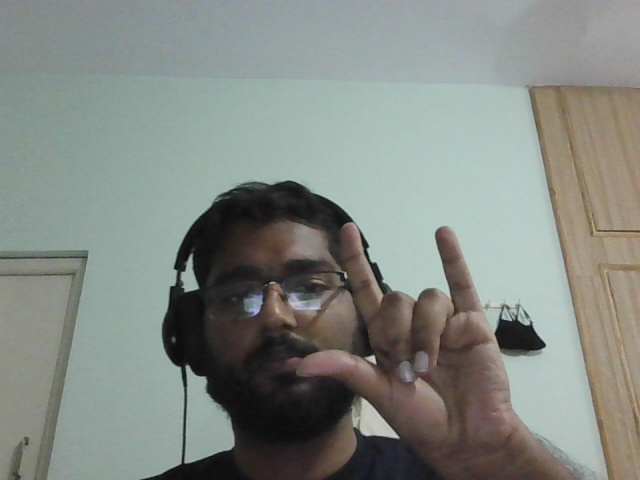I Love You: (297, 213, 543, 453)
